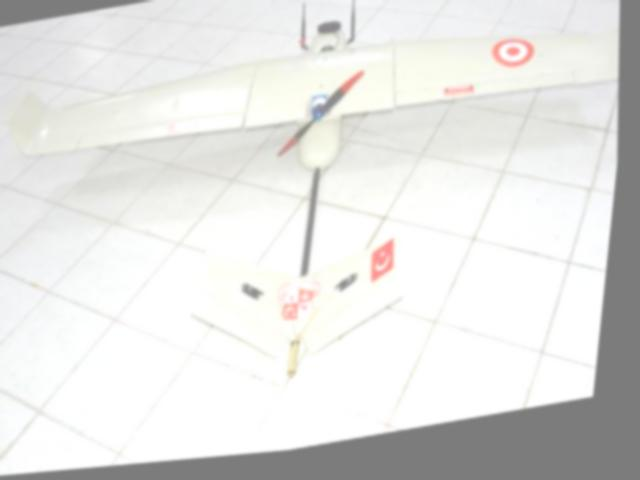iha: (0, 0, 640, 432)
